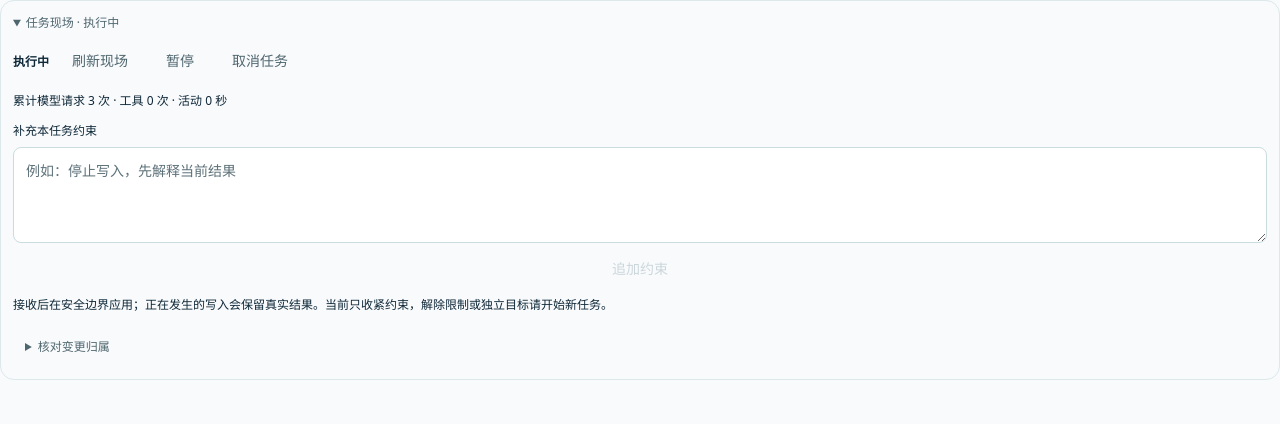
Test: 版本冲突后刷新并要求新操作，不自动覆盖控制状态
What coordinates should you click on to do the following:
click the button "暂停"
I would click on:
 (180, 61)
Its box is x1=151 y1=43 x2=209 y2=79.
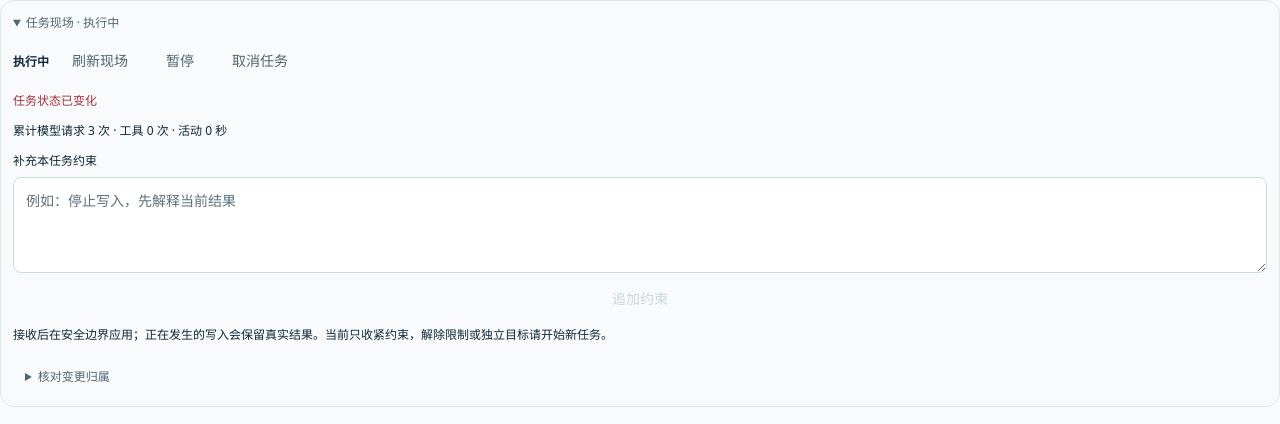
Result: the text "任务状态已变化" is shown at x1=13 y1=92 x2=97 y2=109
